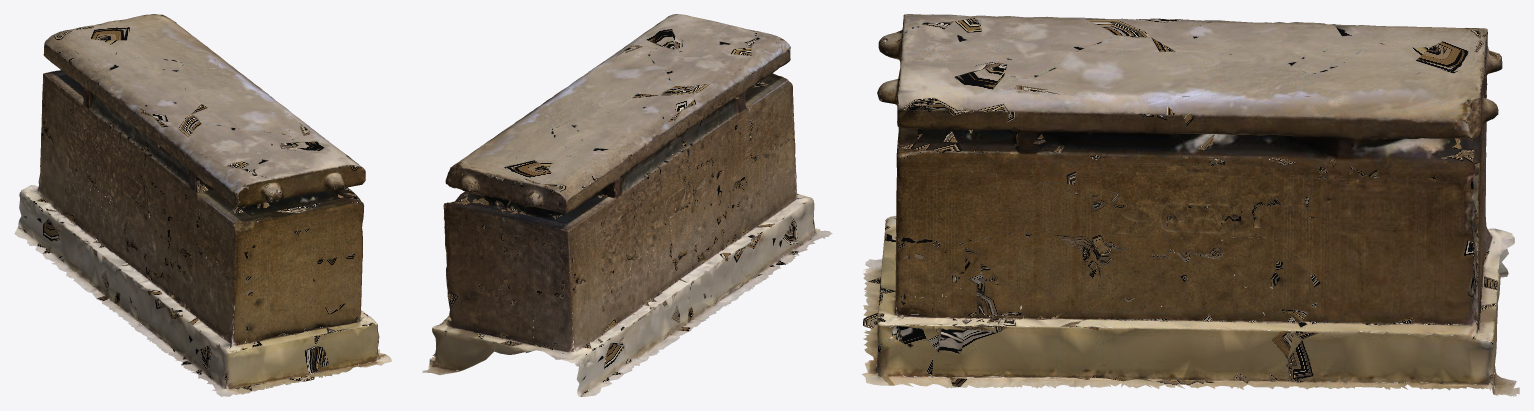
Rendered from sarcofago-khufudjedef.glb.
3 renders of one model, left to right at view 1: azimuth 30°, elevation 25°; view 2: azimuth 150°, elevation 25°; view 3: azimuth 270°, elevation 25°, orthographic. The views are drawn at different scales.
Parts seen in each view (by area): view 1: Object_6, Object_2; view 2: Object_6, Object_2; view 3: Object_6, Object_2.
Boxes of the visible parts, x1,y1,x2,y2 form: Object_6: (14,14,379,396); Object_2: (38,14,391,376); Object_6: (429,14,832,396); Object_2: (422,14,812,375); Object_6: (863,14,1514,393); Object_2: (861,14,1519,396).
Size of the model in its own units: 9.26 by 10.15 by 20.85.
Materials: 2 (2 with a texture image).
